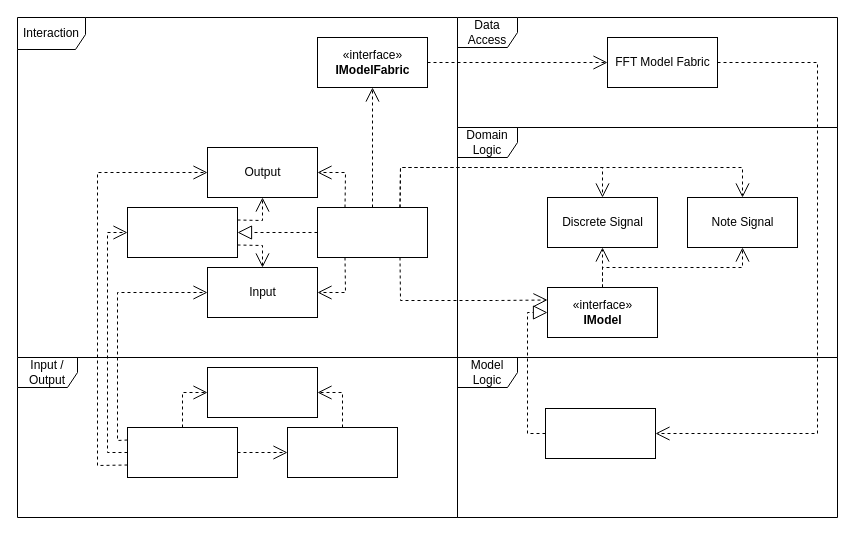
Image size: 855x535. Some labels were removed from this diagram. The shapes that lost their labels are listed below. From the top down, each one's centre as x and y in pixels, then its label:
At pixel 182 232: "«interface» IProcessUseCase".
At pixel 372 232: "Process Data Use Case".
At pixel 262 392: "Process Data ViewModel".
At pixel 182 452: "Process Data Controller".
At pixel 342 452: "Process Data View".
At pixel 600 433: "FFT Model".
